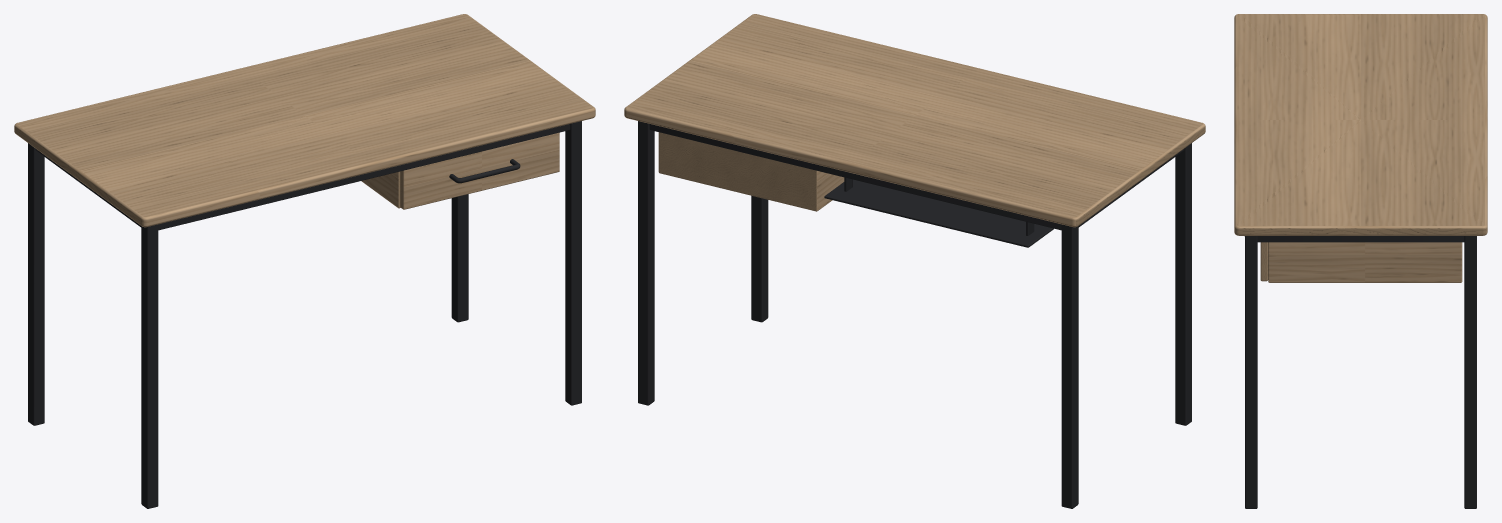
3 views of the same model, side by side, from view 1: azimuth 30°, elevation 25°; view 2: azimuth 150°, elevation 25°; view 3: azimuth 270°, elevation 25° (orthographic). The views are drawn at different scales.
Parts seen in each view (by area): view 1: tabletop, drawer_front, leg_-1_1, leg_1_1, leg_-1_-1, apron_frame, leg_1_-1, drawer_case; view 2: tabletop, drawer_case, cable_tray, leg_-1_-1, leg_1_-1, leg_-1_1, apron_frame, leg_1_1; view 3: tabletop, drawer_case, leg_1_-1, leg_1_1, apron_frame, drawer_front.
Part boxes in pixels (bbox=[...]): tabletop: bbox=[14, 14, 595, 227]; drawer_front: bbox=[400, 132, 559, 209]; leg_-1_1: bbox=[141, 224, 158, 508]; leg_1_1: bbox=[565, 121, 581, 405]; leg_-1_-1: bbox=[28, 143, 44, 425]; apron_frame: bbox=[35, 124, 570, 230]; leg_1_-1: bbox=[451, 194, 468, 322]; drawer_case: bbox=[361, 171, 400, 208]; tabletop: bbox=[624, 14, 1205, 227]; drawer_case: bbox=[658, 132, 844, 211]; cable_tray: bbox=[824, 179, 1053, 247]; leg_-1_-1: bbox=[1061, 224, 1078, 508]; leg_1_-1: bbox=[638, 121, 654, 405]; leg_-1_1: bbox=[1175, 143, 1191, 425]; apron_frame: bbox=[649, 124, 1184, 230]; leg_1_1: bbox=[751, 195, 768, 322]; tabletop: bbox=[1234, 14, 1487, 235]; drawer_case: bbox=[1268, 242, 1462, 282]; leg_1_-1: bbox=[1464, 236, 1476, 508]; leg_1_1: bbox=[1245, 236, 1257, 508]; apron_frame: bbox=[1257, 236, 1464, 242]; drawer_front: bbox=[1260, 242, 1268, 281].
Bounding box in the file's own units: 1.2 × 0.75 × 0.6.
Materials: 3 (2 with a texture image).
